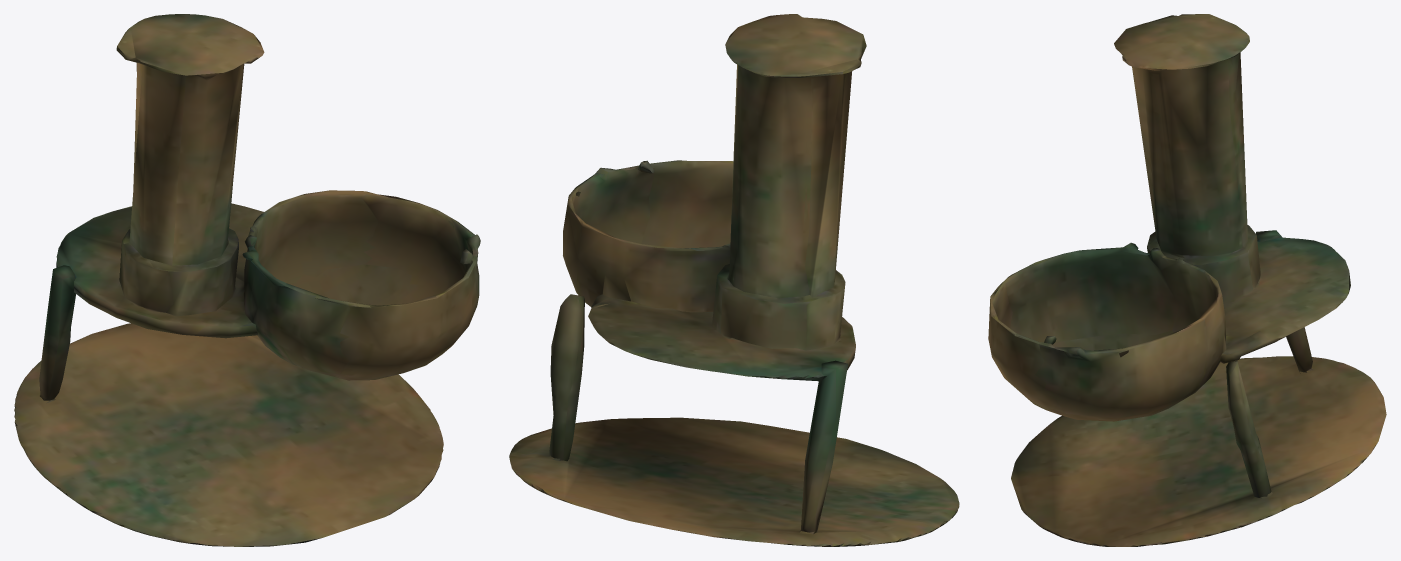
Rendered from worn-bronze-brazier-v001.glb.
3 renders of one model, left to right at view 1: azimuth 30°, elevation 25°; view 2: azimuth 150°, elevation 25°; view 3: azimuth 270°, elevation 25°, orthographic. The views are drawn at different scales.
Parts seen in each view (by area): view 1: worn-bronze-brazier; view 2: worn-bronze-brazier; view 3: worn-bronze-brazier.
Boxes of the visible parts, x1,y1,x2,y2 form: worn-bronze-brazier: (14, 14, 480, 546); worn-bronze-brazier: (509, 14, 959, 546); worn-bronze-brazier: (988, 14, 1386, 546).
Size of the model in its own units: 0.858 by 0.99 by 0.8358.
Materials: 1 (1 with a texture image).
